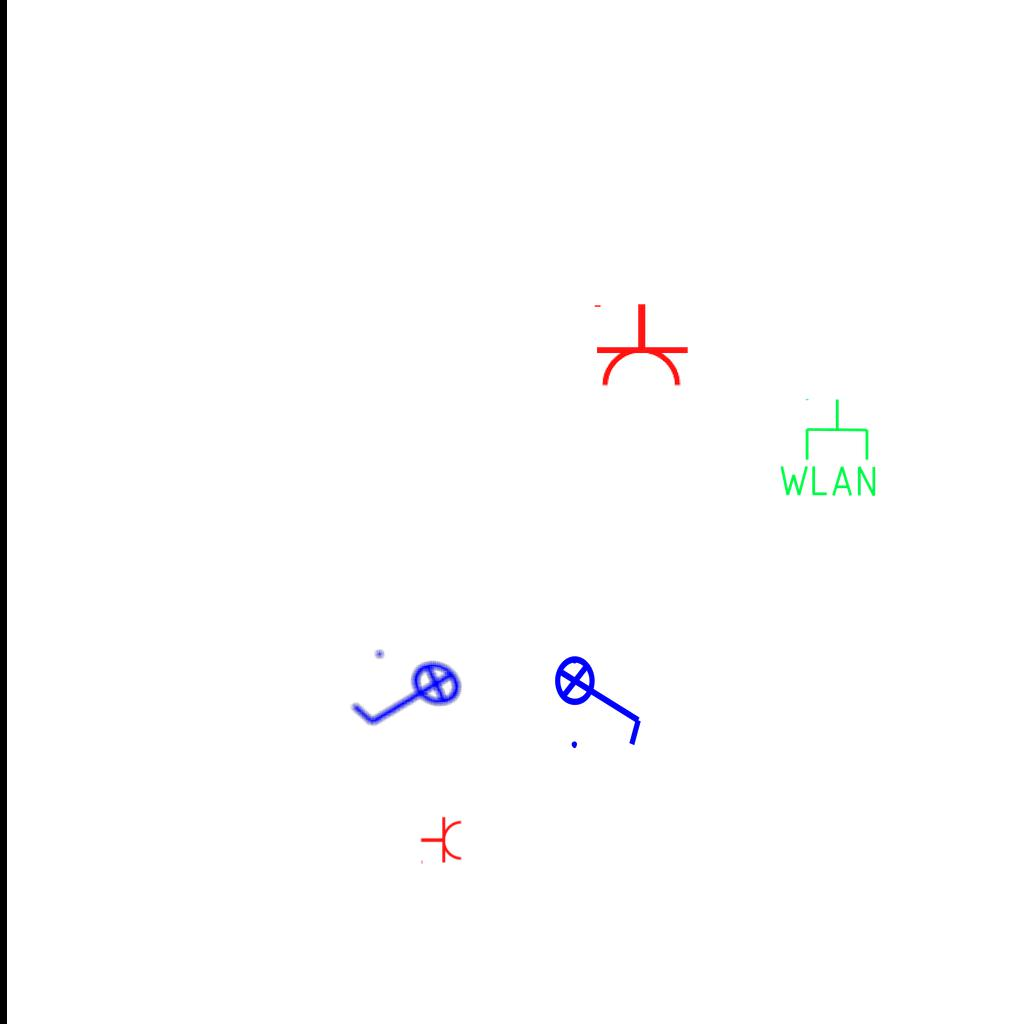Ausschalter_beleuchtet: (337, 630, 481, 768), (553, 642, 649, 754)
Schukosteckdose_einfach: (590, 302, 690, 389), (420, 816, 463, 866)
WLAN: (775, 396, 880, 500)
